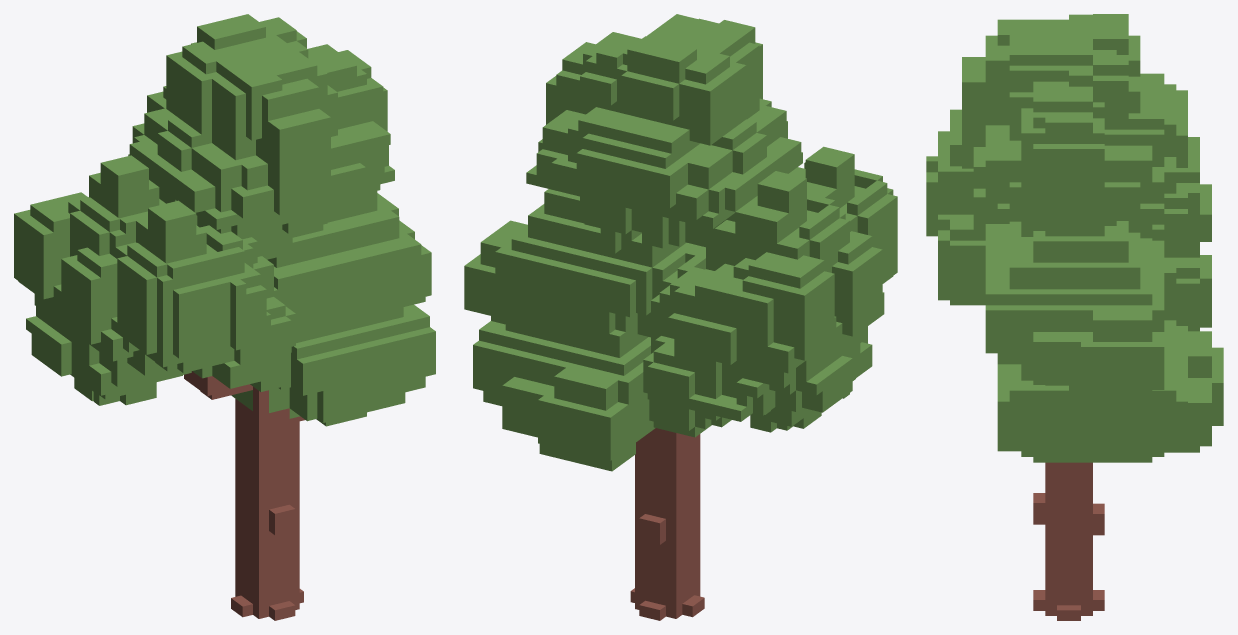
The model's file is arvores-3.obj.
3 renders of one model, left to right at view 1: azimuth 30°, elevation 25°; view 2: azimuth 150°, elevation 25°; view 3: azimuth 270°, elevation 25°, orthographic.
Bounding box in the file's own units: 3.4 × 5.3 × 2.5.
Materials: 1 (1 with a texture image).
